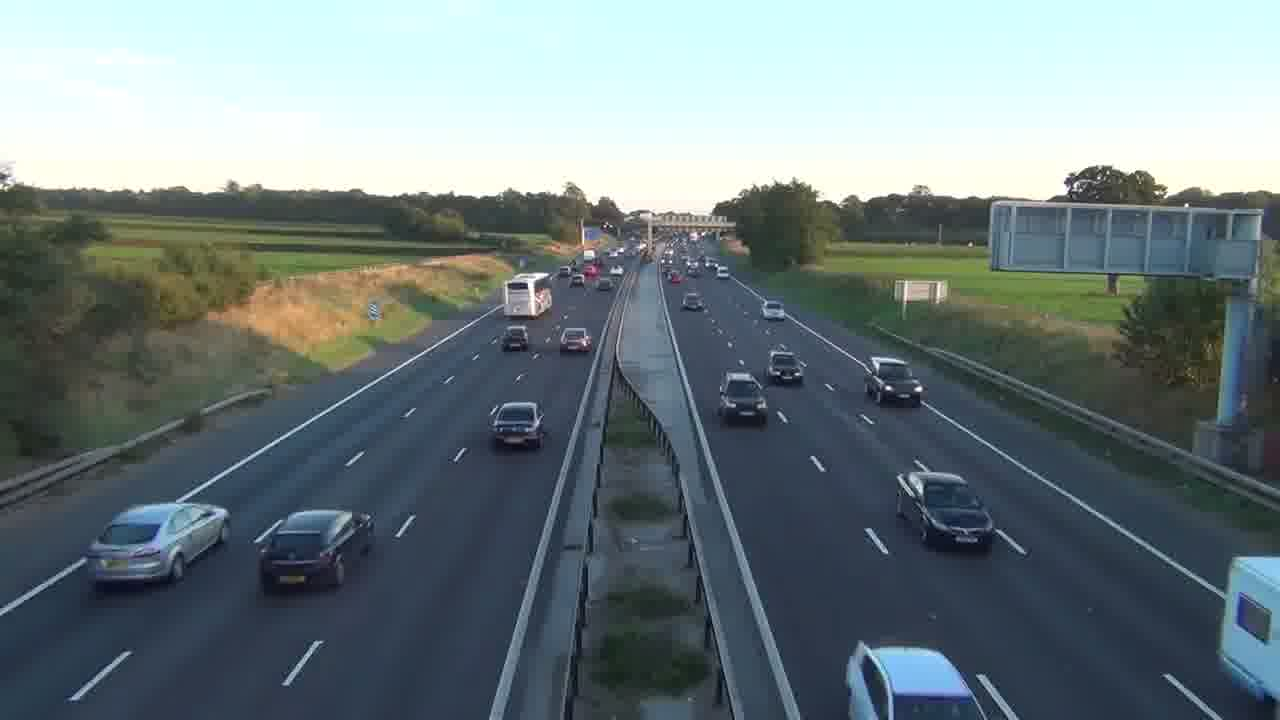car: (85, 501, 230, 592), (845, 640, 991, 718), (252, 507, 374, 592), (894, 468, 996, 552), (717, 371, 769, 425), (489, 400, 547, 448), (767, 348, 807, 385), (558, 327, 593, 354), (681, 292, 706, 312), (762, 299, 785, 320)
truck: (1218, 554, 1279, 705)
